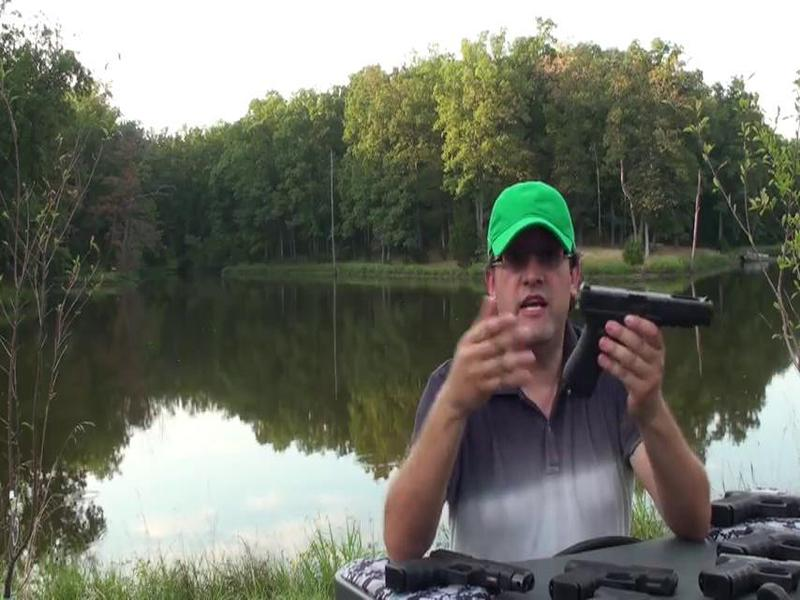Pistola: (552, 276, 721, 404)
